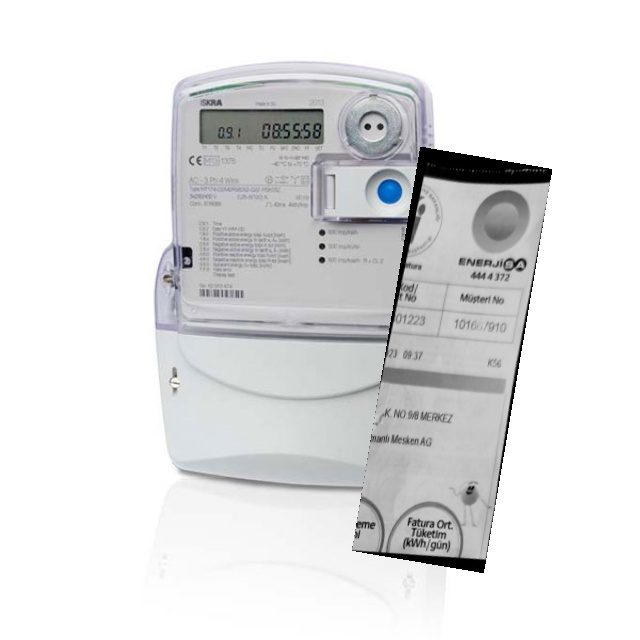electricity-bill: (352, 147, 552, 573)
